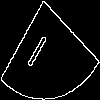I: (25, 25, 53, 70)
